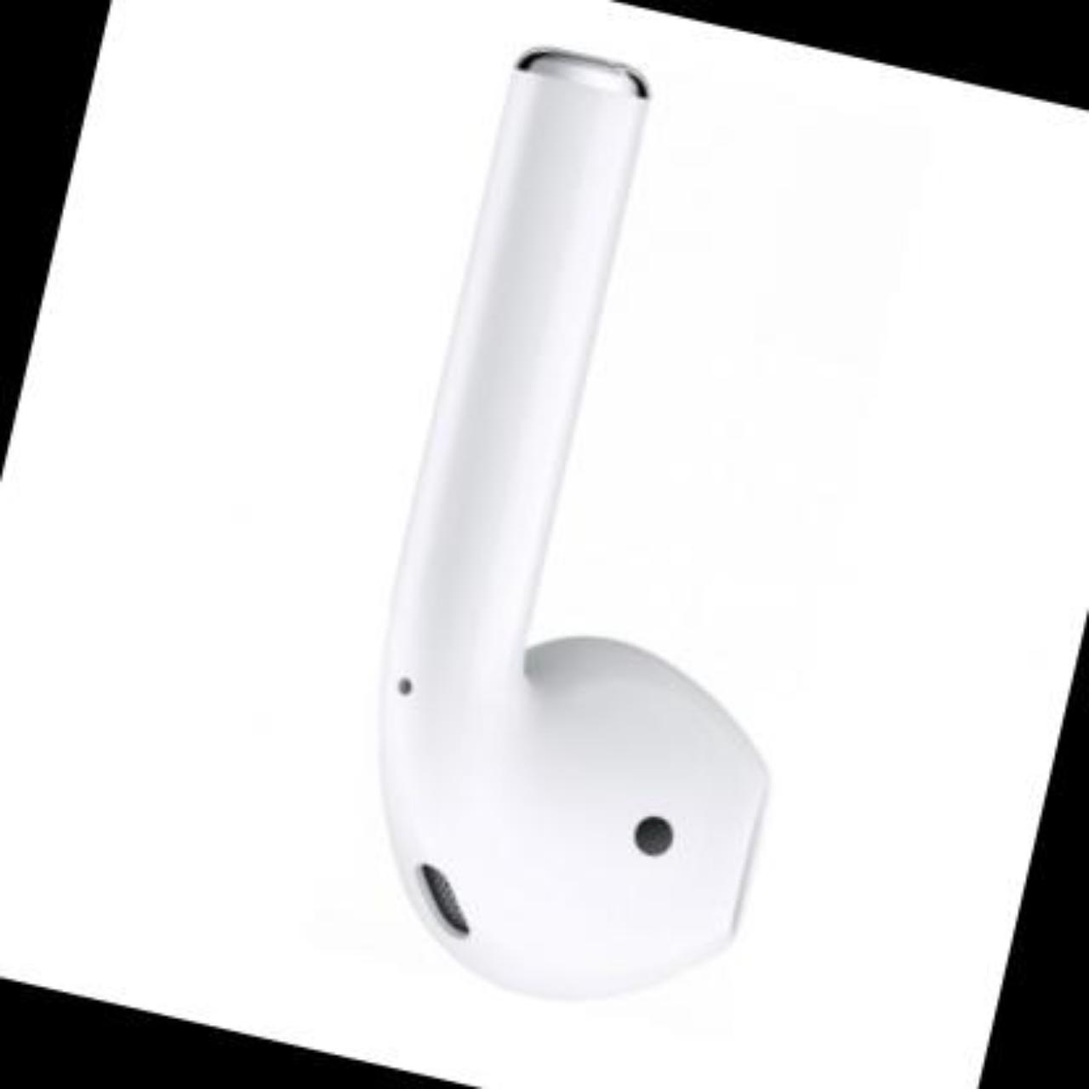Airpods_Units: (274, 23, 951, 1057)
